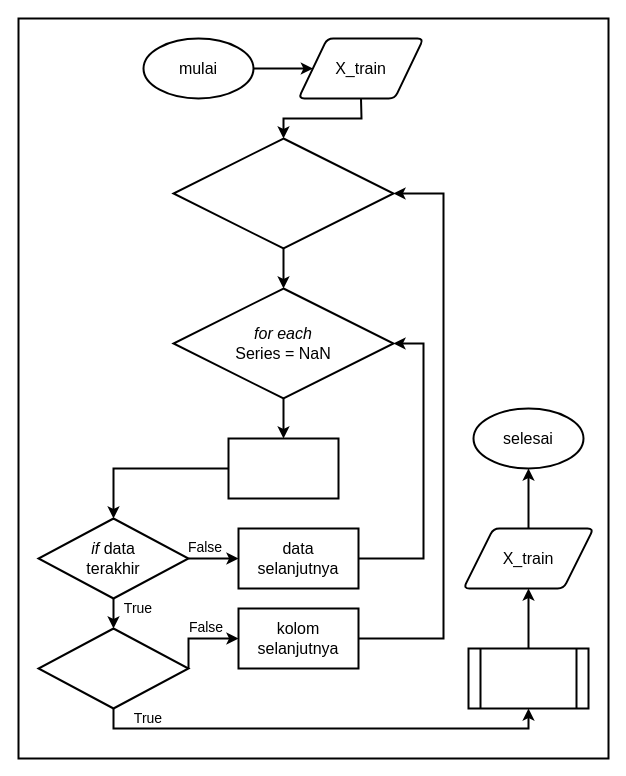
This 626x776 diagram has some shape labels left out. The centre of each missing label's shape, as x and y in pixels:
fillna("mean"): the point at 283,468
for each X_train.columns: the point at 283,193
if kolom terakhir: the point at 113,668
normalisasi: the point at 528,678
